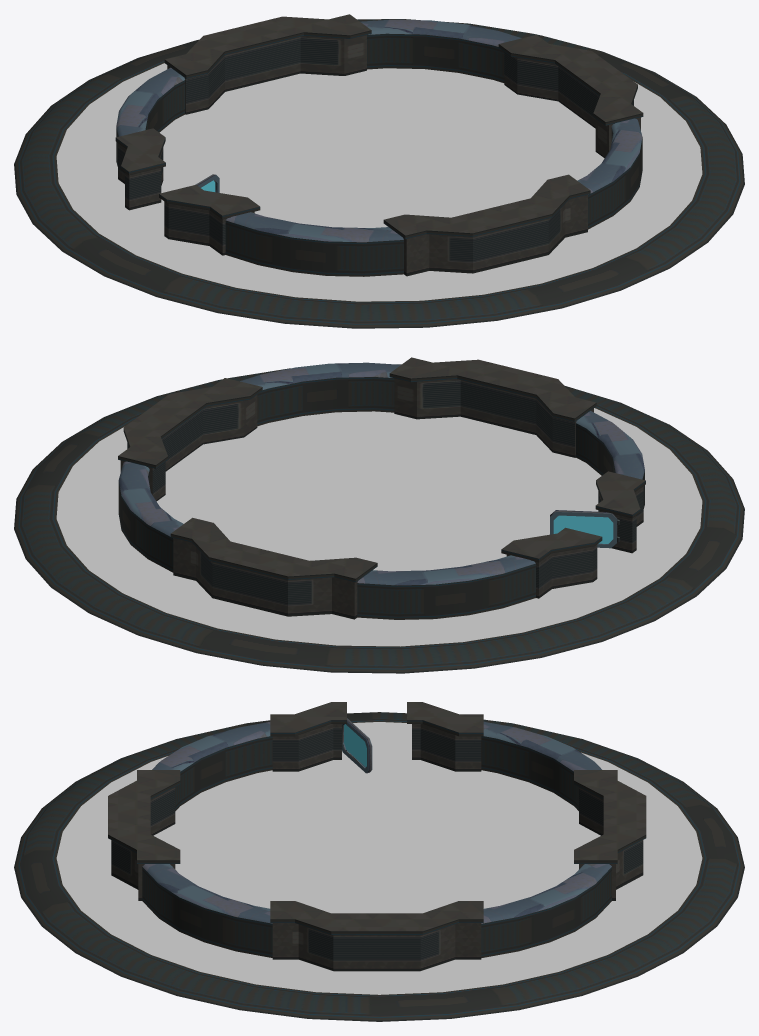
File: mdlCLBarTable.fbx
3 renders of one model, top to bottom at view 1: azimuth 30°, elevation 25°; view 2: azimuth 150°, elevation 25°; view 3: azimuth 270°, elevation 25°, orthographic.
Parts seen in each view (by area): view 1: BarTop2; view 2: BarTop2; view 3: BarTop2.
Boxes of the visible parts, <box> form: BarTop2: <box>14,14,744,328</box>; BarTop2: <box>14,357,744,673</box>; BarTop2: <box>14,702,744,1021</box>.
Size of the model in its own units: 3949 by 303 by 3949.
